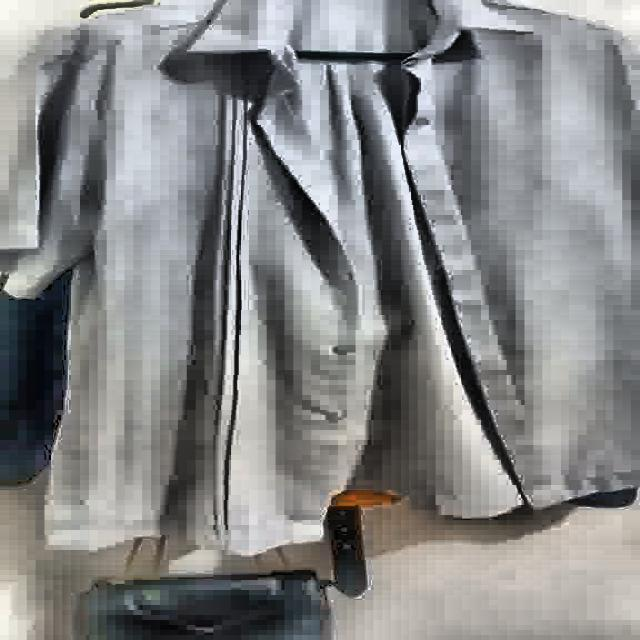clothes: (8, 0, 634, 566)
